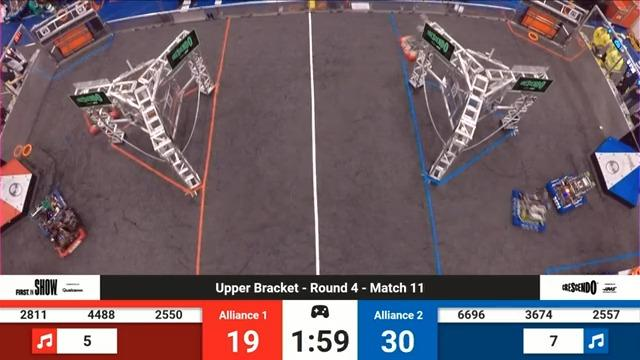robot: (501, 183, 554, 236), (542, 169, 601, 212), (43, 207, 86, 257), (31, 185, 69, 236), (81, 90, 124, 131), (394, 18, 431, 59)
